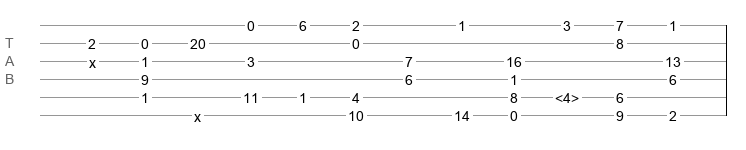0: (141, 36, 149, 46), (247, 18, 255, 28), (352, 36, 360, 46), (510, 108, 518, 118)
1: (141, 90, 149, 100), (141, 54, 149, 64), (299, 90, 307, 100), (458, 18, 466, 28), (510, 72, 518, 82), (669, 18, 677, 28)
10: (348, 108, 364, 118)
11: (243, 90, 259, 100)
13: (665, 54, 681, 64)
14: (454, 108, 470, 118)
16: (506, 54, 522, 64)
2: (88, 36, 96, 46), (352, 18, 360, 28), (669, 108, 677, 118)
20: (190, 36, 206, 46)
3: (247, 54, 255, 64), (563, 18, 571, 28)
4: (352, 90, 360, 100)
6: (299, 18, 307, 28), (405, 72, 413, 82), (616, 90, 624, 100), (669, 72, 677, 82)
7: (405, 54, 413, 64), (616, 18, 624, 28)
8: (510, 90, 518, 100), (616, 36, 624, 46)
9: (141, 72, 149, 82), (616, 108, 624, 118)
harmonic: (555, 90, 579, 100)
x: (89, 55, 96, 63), (194, 109, 201, 117)
